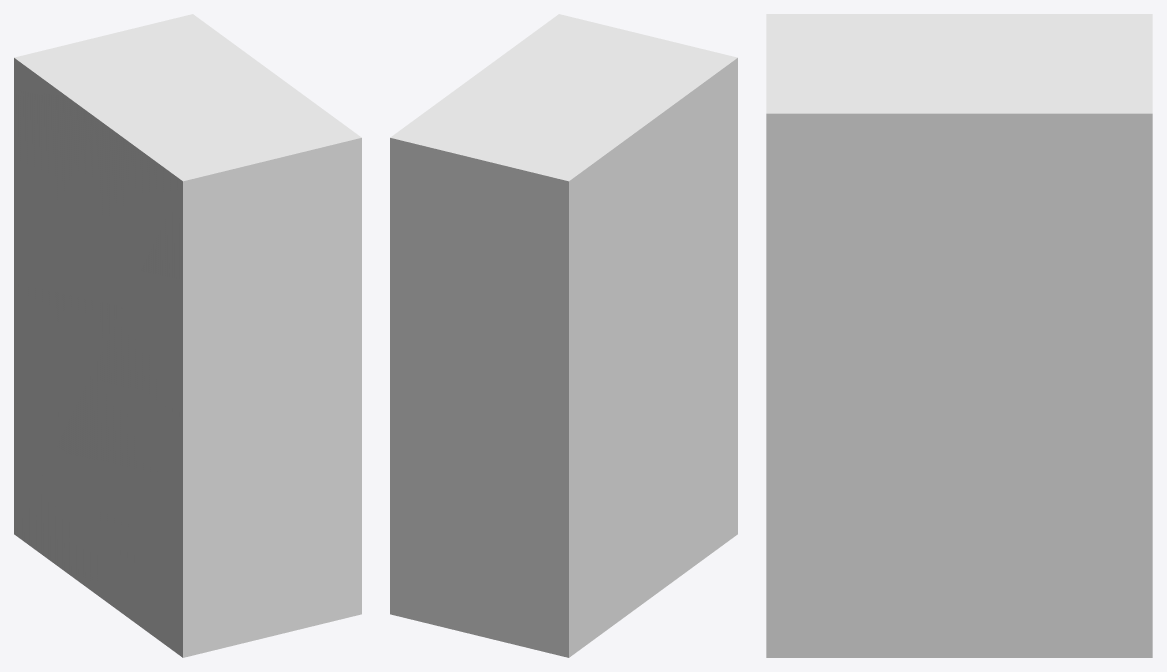
File: eot_flag.obj
3 views of the same model, side by side, from view 1: azimuth 30°, elevation 25°; view 2: azimuth 150°, elevation 25°; view 3: azimuth 270°, elevation 25° (orthographic). The views are drawn at different scales.
Visible parts, largest first — view 1: Cube.011_Cube.002; view 2: Cube.011_Cube.002; view 3: Cube.011_Cube.002.
Boxes of the visible parts, x1,y1,x2,y2 form: Cube.011_Cube.002: (14,14,361,657); Cube.011_Cube.002: (390,14,737,657); Cube.011_Cube.002: (766,14,1152,657).
Bounding box in the file's own units: 0.6875 × 1.75 × 1.12.
Materials: 1 (1 with a texture image).
